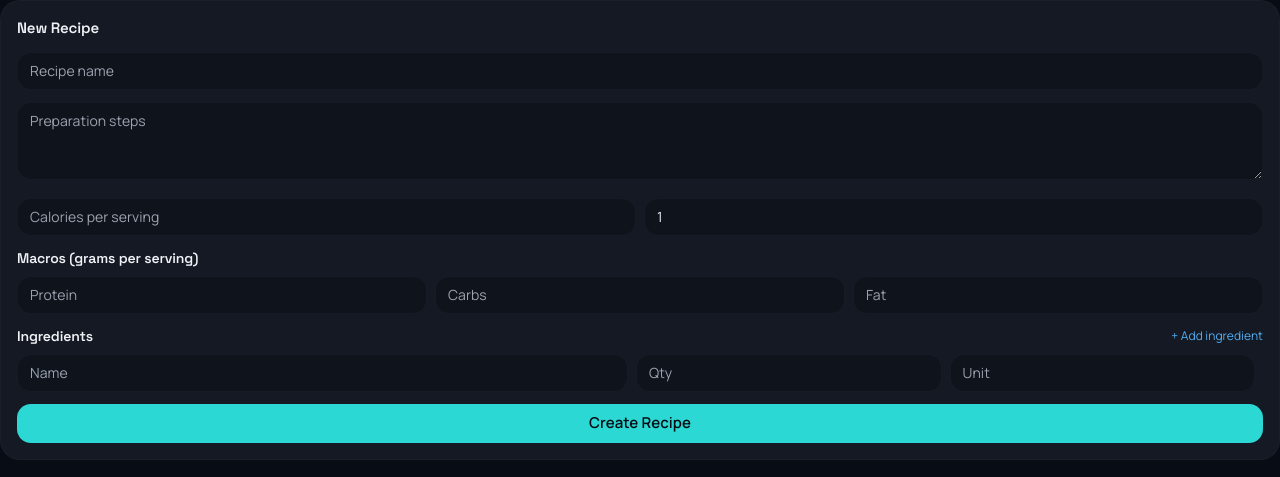
Test case: RecipeForm › resets form after successful submit
The image size is (1280, 477).
Step 1. Type "Pasta" into the field labelled "Recipe name" → (640, 70), box x1=17 y1=52 x2=1263 y2=90
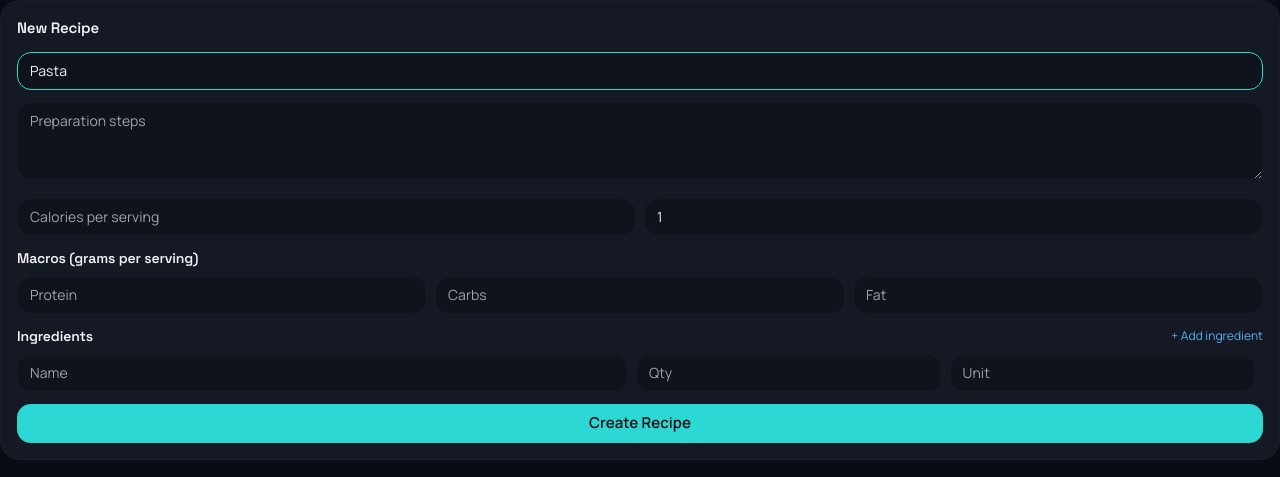
Step 2. Type "Cook it" into the text box labelled "Preparation steps" → (640, 140), box x1=17 y1=102 x2=1263 y2=180
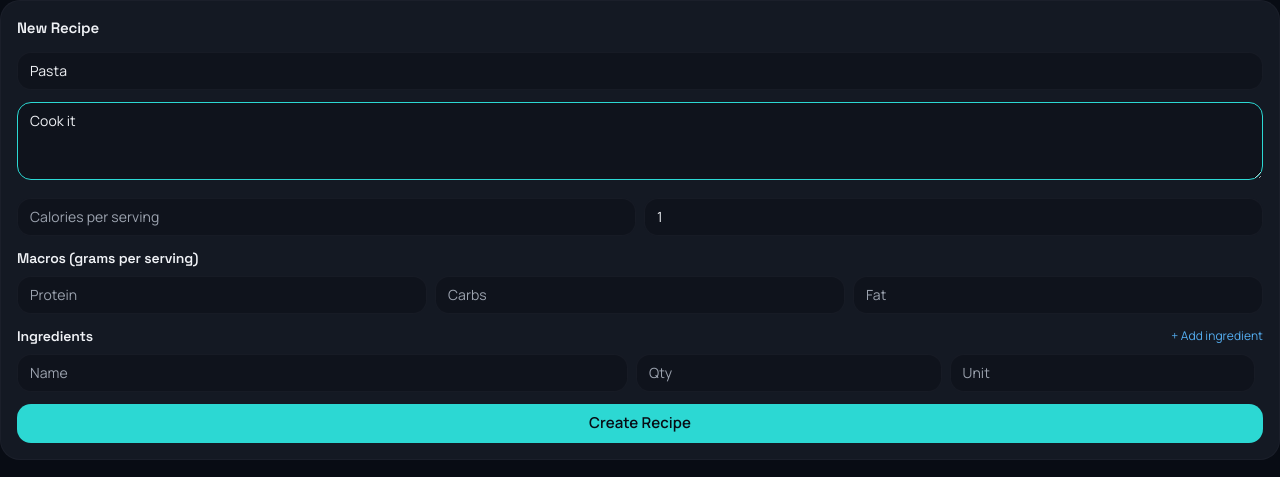
Step 3. Type "400" into the number field labelled "Calories per serving" → (326, 217), box x1=17 y1=198 x2=636 y2=236
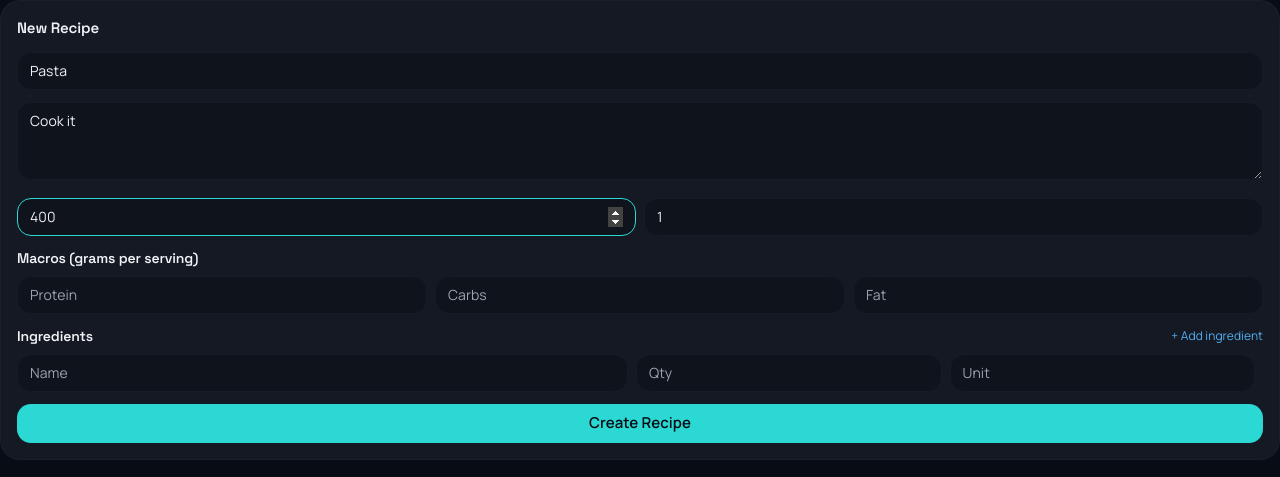
Step 4. Click the button "Create Recipe" → (640, 423), box x1=17 y1=404 x2=1263 y2=442
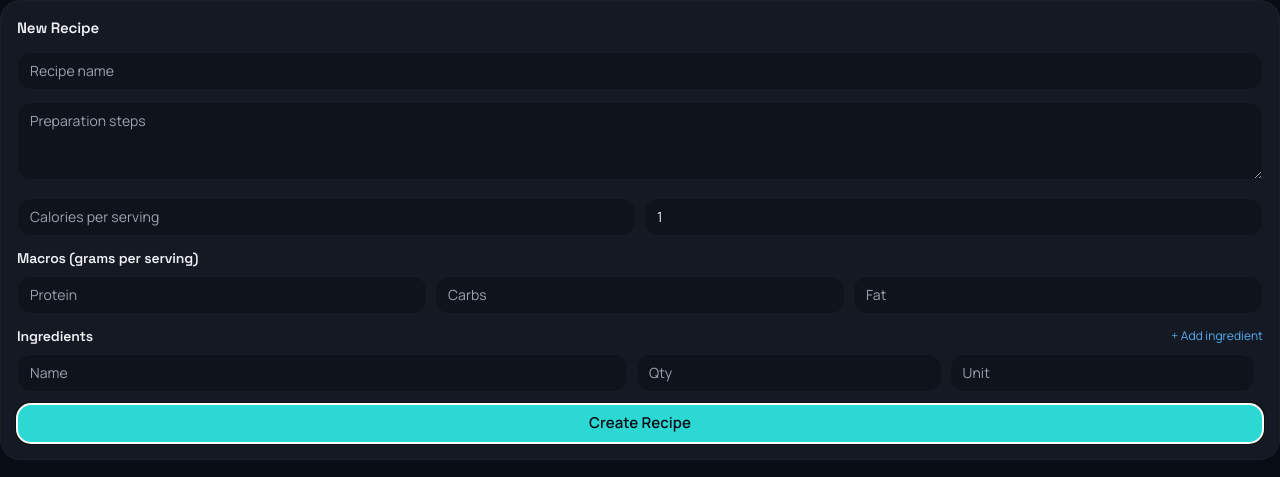
Expected: the field labelled "Recipe name" is empty, x1=17 y1=52 x2=1263 y2=90
Expected: the text box labelled "Preparation steps" is empty, x1=17 y1=102 x2=1263 y2=180
Expected: the number field labelled "Calories per serving" is not empty, x1=17 y1=198 x2=636 y2=236
